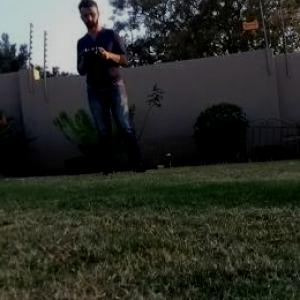follow: (71, 0, 155, 183)
